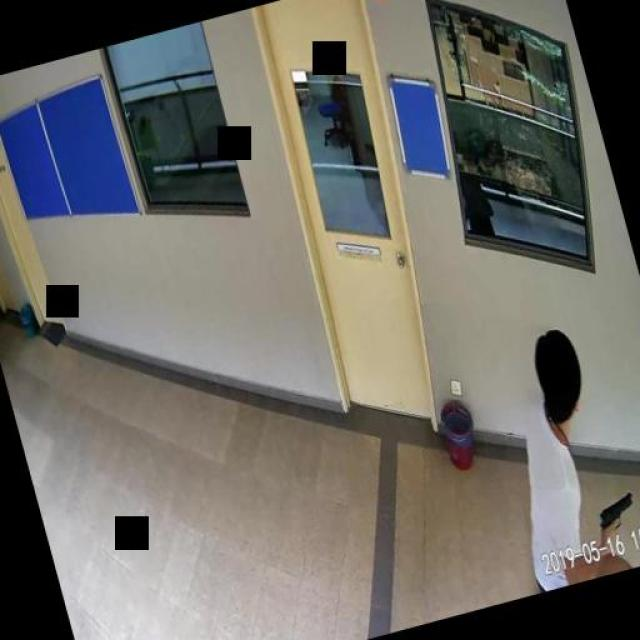gun: (594, 490, 638, 535)
